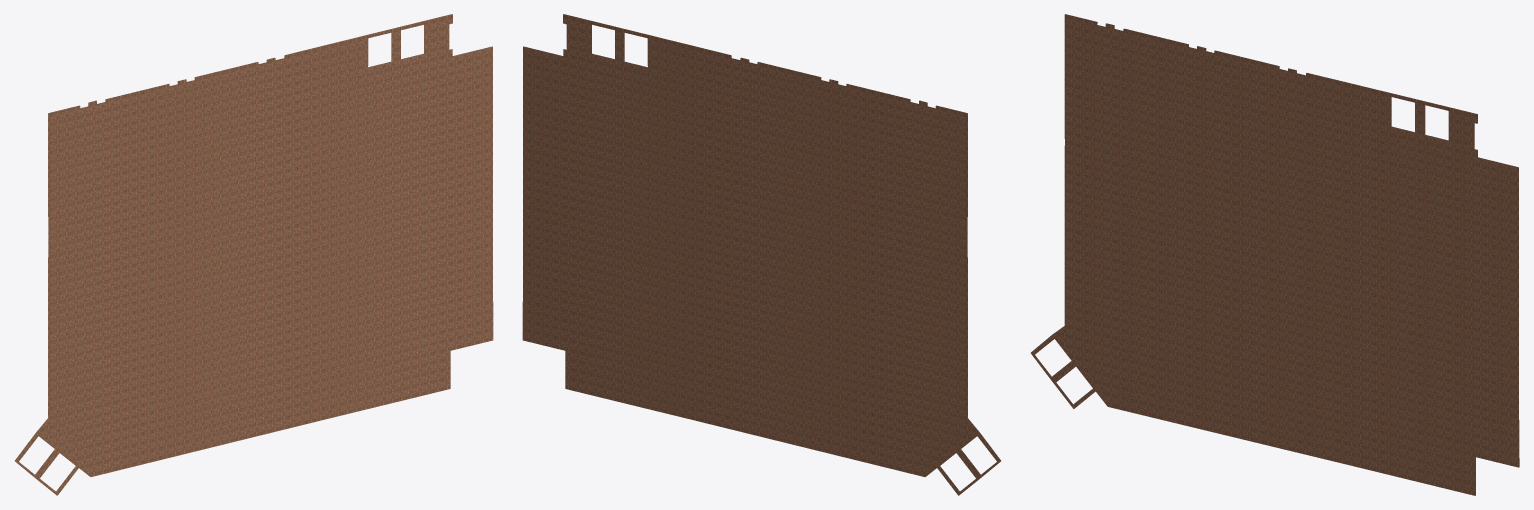
The model's file is floor_1.obj.
3 renders of one model, left to right at view 1: azimuth 30°, elevation 25°; view 2: azimuth 150°, elevation 25°; view 3: azimuth 330°, elevation 25°, orthographic. The views are drawn at different scales.
Visible parts, largest first — view 1: floor_1; view 2: floor_1; view 3: floor_1.
Boxes of the visible parts, x1,y1,x2,y2 form: floor_1: (15, 14, 493, 495); floor_1: (522, 14, 1000, 495); floor_1: (1031, 14, 1519, 495).
Bounding box in the file's own units: 52.83 × 40.67 × 0.1.
